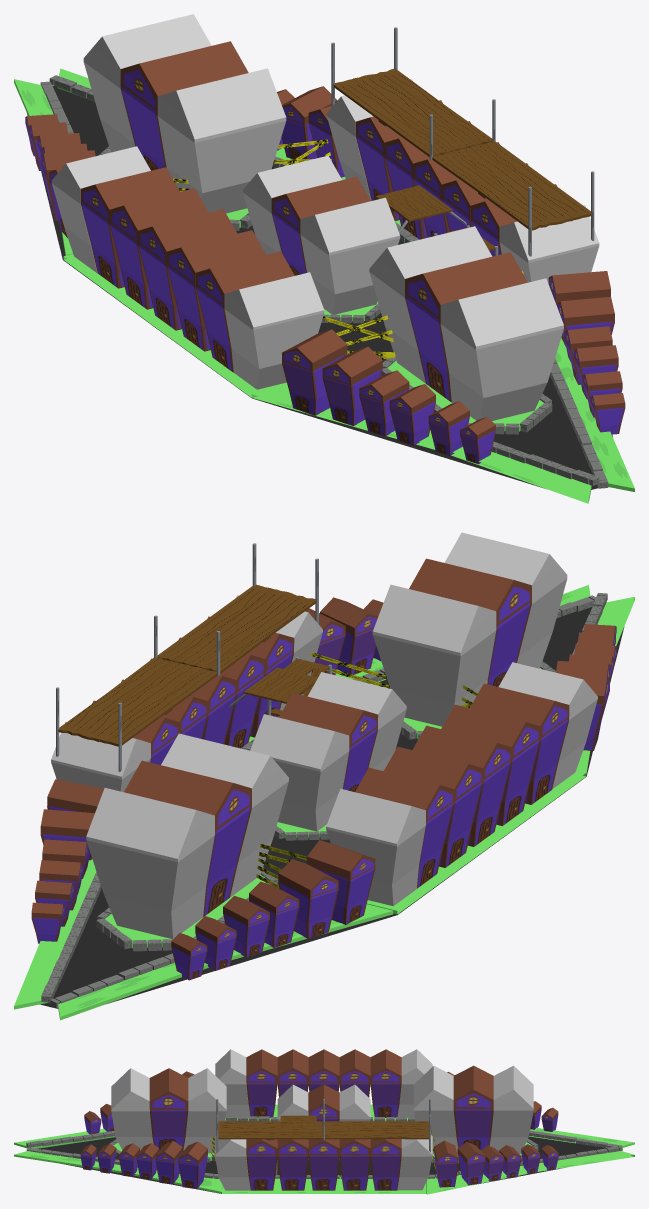
File: TownMap.fbx
3 renders of one model, top to bottom at view 1: azimuth 30°, elevation 25°; view 2: azimuth 150°, elevation 25°; view 3: azimuth 270°, elevation 25°, orthographic. The views are drawn at different scales.
Parts seen in each view (by area): view 1: Cube.036, Cube.030, Plane, Cube.020, Cube, Cube.032, Cube.037, Cube.028, Cube.038, Cube.031, Cube.029, Cube.013 (+39 smaller); view 2: Cube.032, Cube.038, Plane, Cube.023, Cube.002, Cube.031, Cube.030, Cube.029, Cube.028, Cube.036, Cube.037, Cube.019 (+40 smaller); view 3: Cube.032, Cube.031, Cube.037, Cube.036, Cube.038, Cube.030, Cube.028, Cube.029, Plane, Cube.022, Cube.019, Cube.020 (+42 smaller).
Boxes of the visible parts, x1,y1,x2,y2 form: Cube.036: (440,278,563,420); Cube.030: (157,68,286,213); Plane: (27,85,612,489); Cube.020: (224,272,324,389); Cube: (300,197,400,314); Cube.032: (83,14,211,152); Cube.037: (405,252,527,402); Cube.028: (432,141,591,230); Cube.038: (369,226,492,383); Cube.031: (120,41,248,170); Cube.029: (334,69,492,156); Cube.013: (499,205,599,283); Cube.032: (86,788,214,939); Cube.038: (372,584,496,726); Plane: (40,606,624,1008); Cube.023: (326,788,425,906); Cube.002: (250,714,349,831); Cube.031: (124,760,251,916); Cube.030: (161,733,288,897); Cube.029: (58,657,217,746); Cube.028: (157,584,316,673); Cube.036: (444,532,567,668); Cube.037: (409,558,531,686); Cube.019: (470,683,569,804); Cube.032: (489,1065,533,1154); Cube.031: (453,1065,493,1150); Cube.037: (149,1068,188,1151); Cube.036: (111,1068,153,1150); Cube.038: (183,1068,226,1153); Cube.030: (413,1066,458,1154); Cube.028: (216,1121,322,1140); Cube.029: (325,1121,428,1139); Plane: (37,1136,606,1193); Cube.022: (370,1049,401,1117); Cube.019: (246,1049,277,1117); Cube.020: (215,1049,250,1117).
Bounding box in the file's own units: 10164 × 4165 × 29202.
